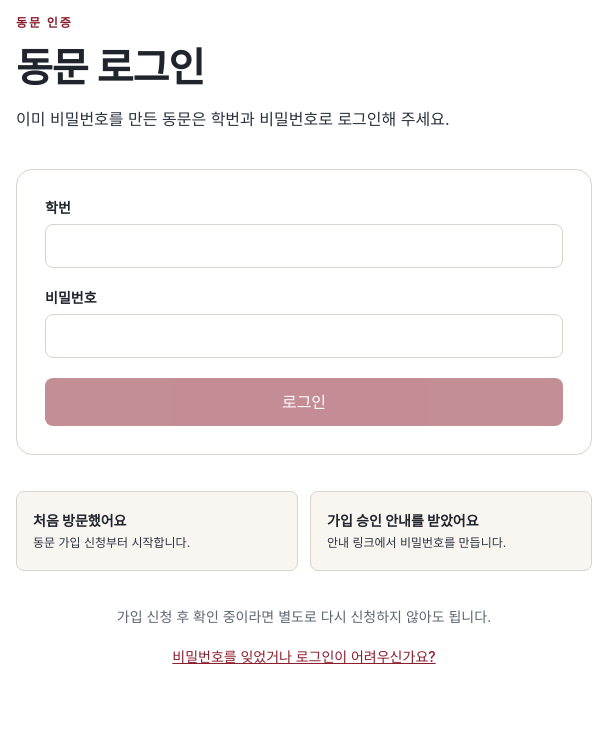
Scenario: LoginPage › 비활성 계정은 비활성 안내 메시지를 표시한다
Type "inactive001" into the field labelled "학번" at (304, 246), box [45,224,563,268]
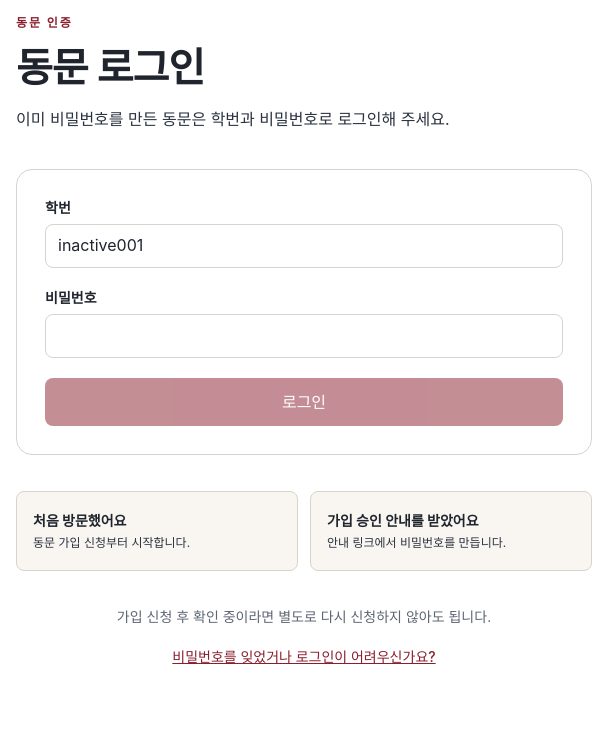
Type "pw" into the password field labelled "비밀번호" at (304, 336), box [45,314,563,358]
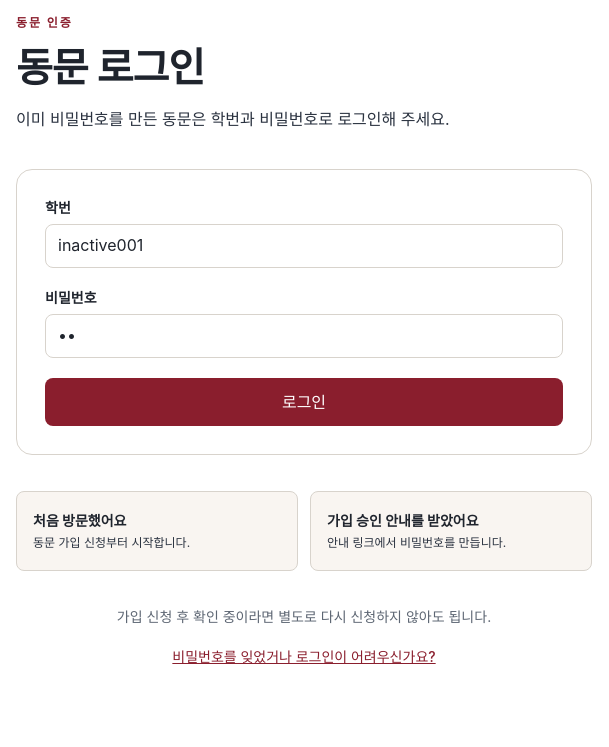
Click the button "로그인" at (304, 402), box [45,378,563,426]
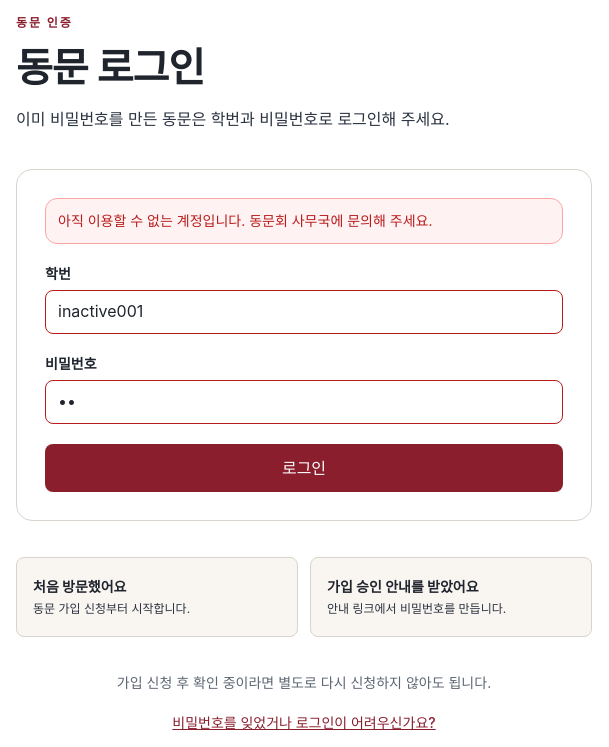
Expected: the message shows "아직 이용할 수 없는 계정입니다.", [58,212,432,229]
